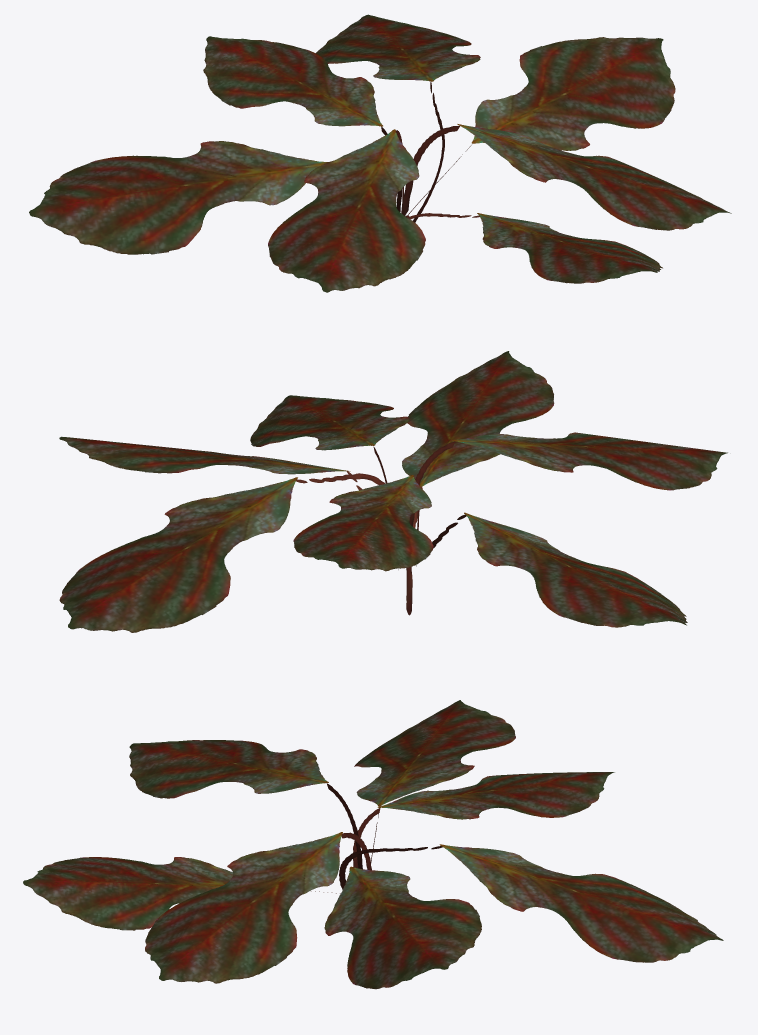
The model's file is Row Root D6.fbx.
3 views of the same model, one above another, from view 1: azimuth 30°, elevation 25°; view 2: azimuth 150°, elevation 25°; view 3: azimuth 270°, elevation 25° (orthographic). The views are drawn at different scales.
Visible parts, largest first — view 1: Row Root D6; view 2: Row Root D6; view 3: Row Root D6.
Boxes of the visible parts, bbox=[...] form: Row Root D6: bbox=[29, 14, 731, 292]; Row Root D6: bbox=[59, 351, 727, 632]; Row Root D6: bbox=[23, 700, 723, 989].
Bounding box in the file's own units: 215 × 54.19 × 213.
